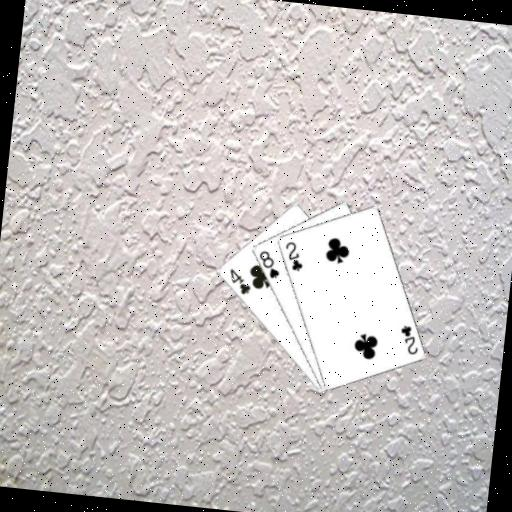2C: (280, 238, 307, 274), (395, 321, 422, 357)
4C: (225, 265, 255, 297)
8S: (253, 247, 283, 281)
